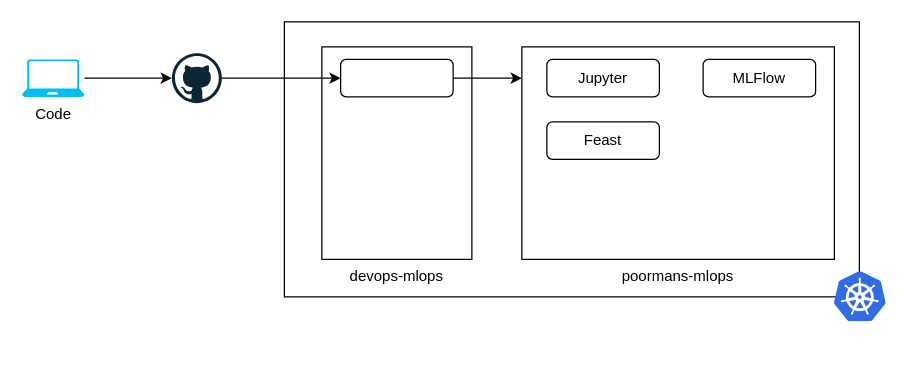
This 908x370 diagram has some shape labels left out. Each missing label, with the centre of its shape:
Github: point (196, 77)
Jenkins: point (396, 77)
K8s: point (860, 296)
